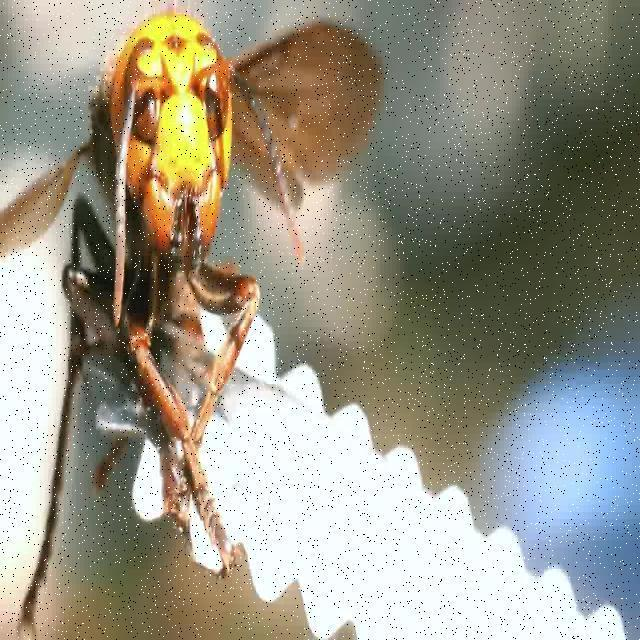Wasp: (3, 3, 385, 577)
